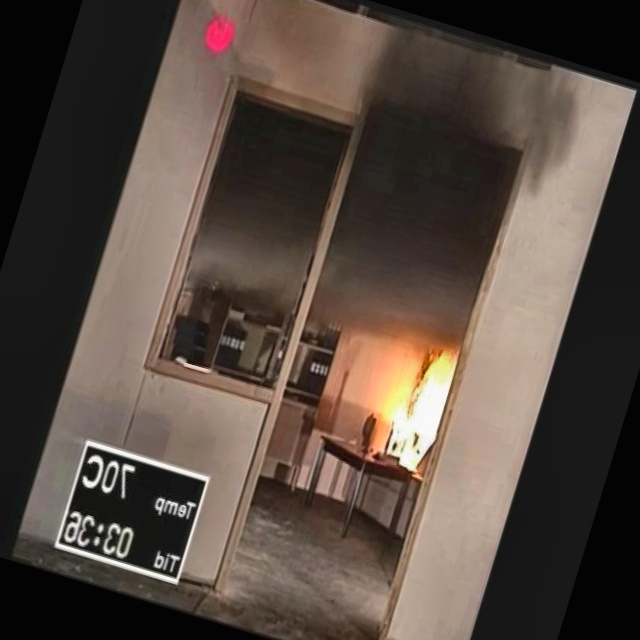fire: (346, 318, 465, 485)
